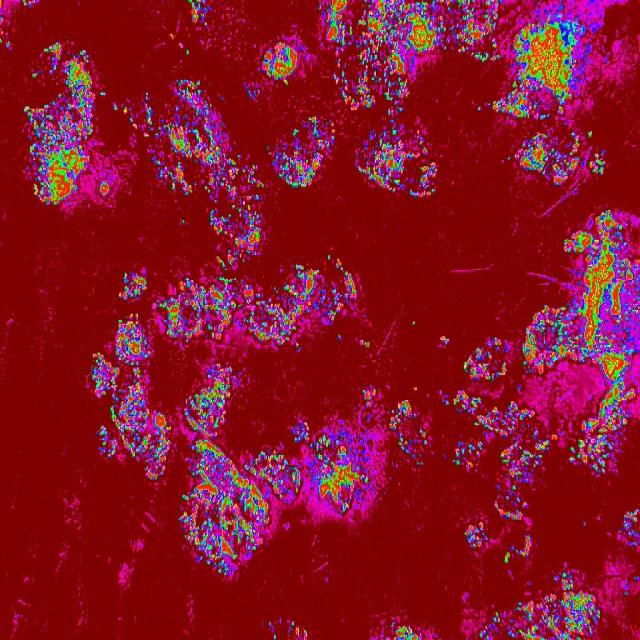fire: (562, 211, 638, 378), (180, 438, 269, 574), (143, 78, 240, 194), (358, 0, 505, 65), (511, 15, 594, 120), (21, 103, 94, 211), (182, 277, 271, 347), (308, 429, 376, 513), (112, 312, 150, 459), (266, 116, 335, 189), (272, 258, 326, 348), (504, 592, 605, 640), (208, 194, 265, 270), (184, 361, 238, 438), (332, 64, 408, 115), (354, 128, 412, 193), (509, 133, 578, 187), (566, 416, 628, 476), (42, 40, 98, 101), (518, 304, 564, 376), (480, 398, 539, 438), (497, 441, 552, 482), (463, 336, 509, 380), (326, 262, 360, 319), (258, 41, 298, 87), (318, 0, 346, 65), (597, 378, 636, 417), (269, 449, 300, 498), (412, 135, 436, 197), (492, 481, 528, 520), (152, 410, 172, 480), (156, 293, 182, 339), (386, 398, 419, 432), (449, 439, 485, 468), (398, 430, 428, 462), (617, 507, 640, 548), (90, 352, 109, 398), (117, 272, 146, 302), (450, 390, 480, 418), (464, 522, 488, 550), (242, 162, 264, 192), (94, 424, 112, 460), (388, 620, 419, 640), (188, 0, 210, 28), (289, 420, 310, 448), (514, 532, 532, 558), (492, 93, 511, 117), (587, 154, 606, 178), (121, 105, 138, 131), (0, 10, 11, 50), (558, 569, 576, 592), (288, 621, 308, 640), (362, 386, 378, 409), (98, 180, 110, 200), (245, 87, 262, 99), (476, 625, 489, 640), (438, 336, 451, 350), (360, 336, 372, 350), (490, 611, 502, 625), (22, 0, 38, 9), (504, 550, 513, 565), (144, 459, 150, 481), (29, 70, 41, 80), (348, 24, 355, 40), (110, 103, 119, 113), (388, 118, 397, 127), (98, 90, 106, 100), (442, 397, 449, 408), (180, 218, 187, 228), (183, 47, 190, 57), (265, 618, 272, 628), (586, 129, 592, 140), (410, 320, 418, 328), (326, 252, 332, 262), (474, 419, 480, 428), (272, 632, 278, 640), (337, 333, 342, 341), (476, 106, 482, 112), (486, 101, 489, 109)
